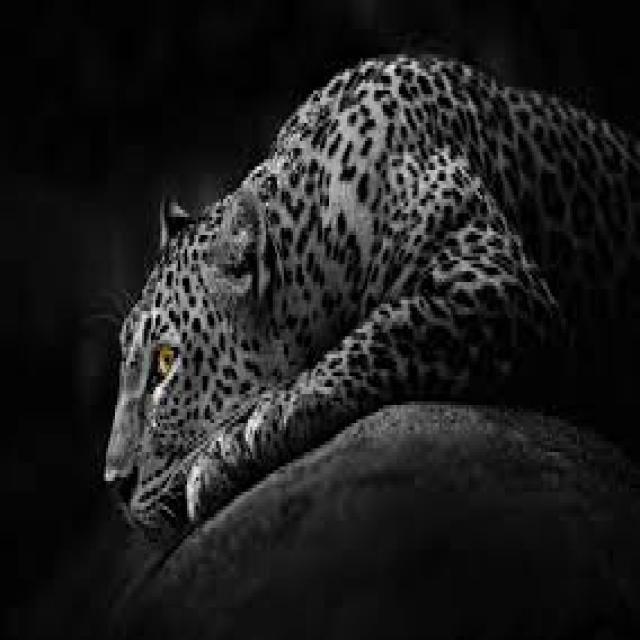Jaguar: (99, 50, 640, 502)
